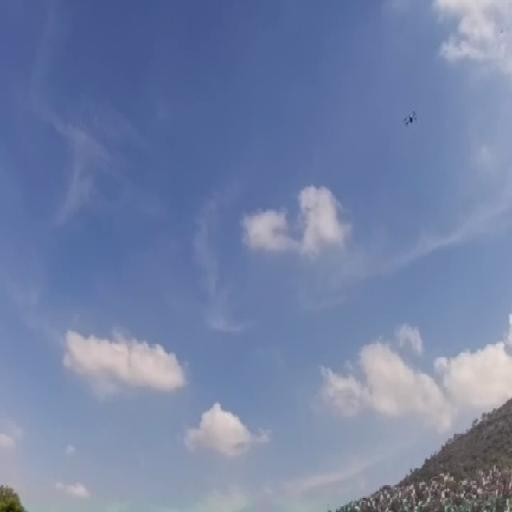drones: (400, 108, 424, 130)
